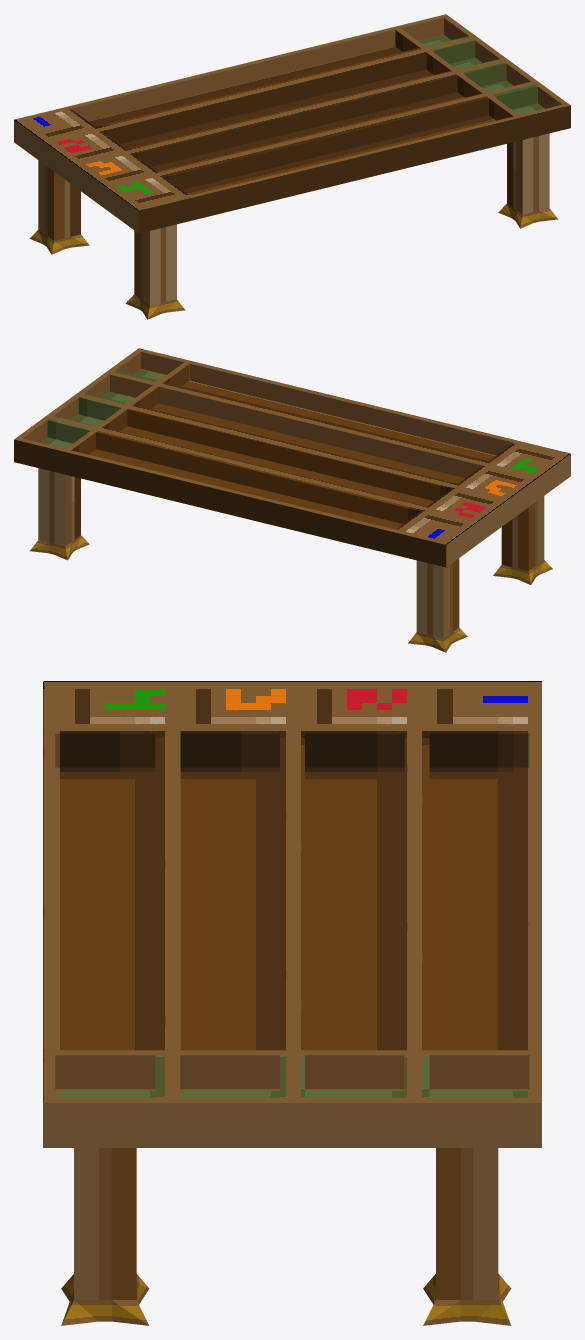
File: ratrace_763x0.gltf
The picture shows the model from 3 angles, top to bottom: view 1: azimuth 30°, elevation 25°; view 2: azimuth 150°, elevation 25°; view 3: azimuth 270°, elevation 25°; orthographic projection. The views are drawn at different scales.
Visible parts, largest first — view 1: RatRace_763x0; view 2: RatRace_763x0; view 3: RatRace_763x0.
Boxes of the visible parts, <box> form: RatRace_763x0: <box>14,14,570,319</box>; RatRace_763x0: <box>14,348,570,652</box>; RatRace_763x0: <box>43,681,541,1325</box>.
Size of the model in its own units: 8 by 2.04 by 4.
Materials: 2 (2 with a texture image).
